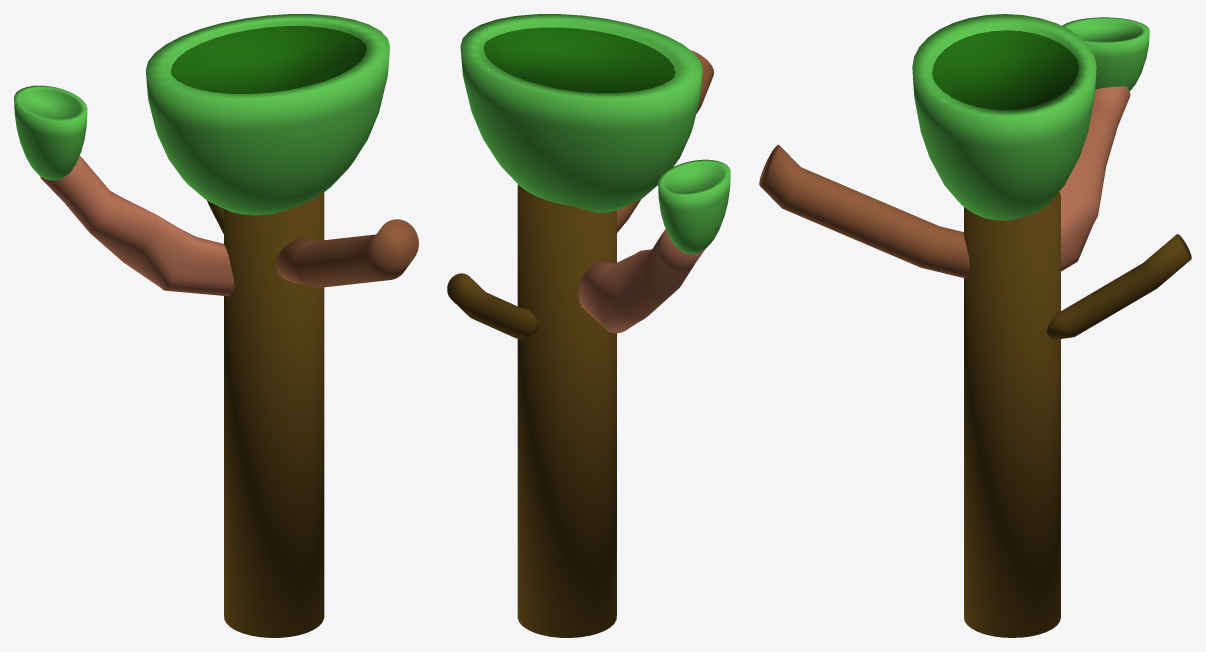
The model's file is tree_7.glb.
3 renders of one model, left to right at view 1: azimuth 30°, elevation 25°; view 2: azimuth 150°, elevation 25°; view 3: azimuth 270°, elevation 25°, orthographic. The views are drawn at different scales.
Parts seen in each view (by area): view 1: Circle.004; view 2: Circle.004; view 3: Circle.004.
Boxes of the visible parts, box(x1,y1,x2,y2) form: Circle.004: box(14, 14, 418, 637); Circle.004: box(447, 14, 730, 637); Circle.004: box(759, 14, 1191, 637).
Size of the model in its own units: 2.09 by 3.67 by 2.64.
